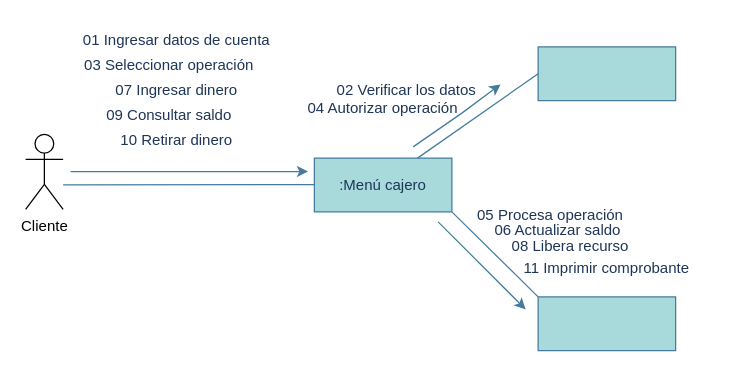
Image size: 735x373. Some labels were removed from this diagram. The shapes that lost their labels are listed below. From the top down, each one's centre as x and y in pixels, then its label:
At (606,73): ":Banco".
At (606,323): ":Sistema".
